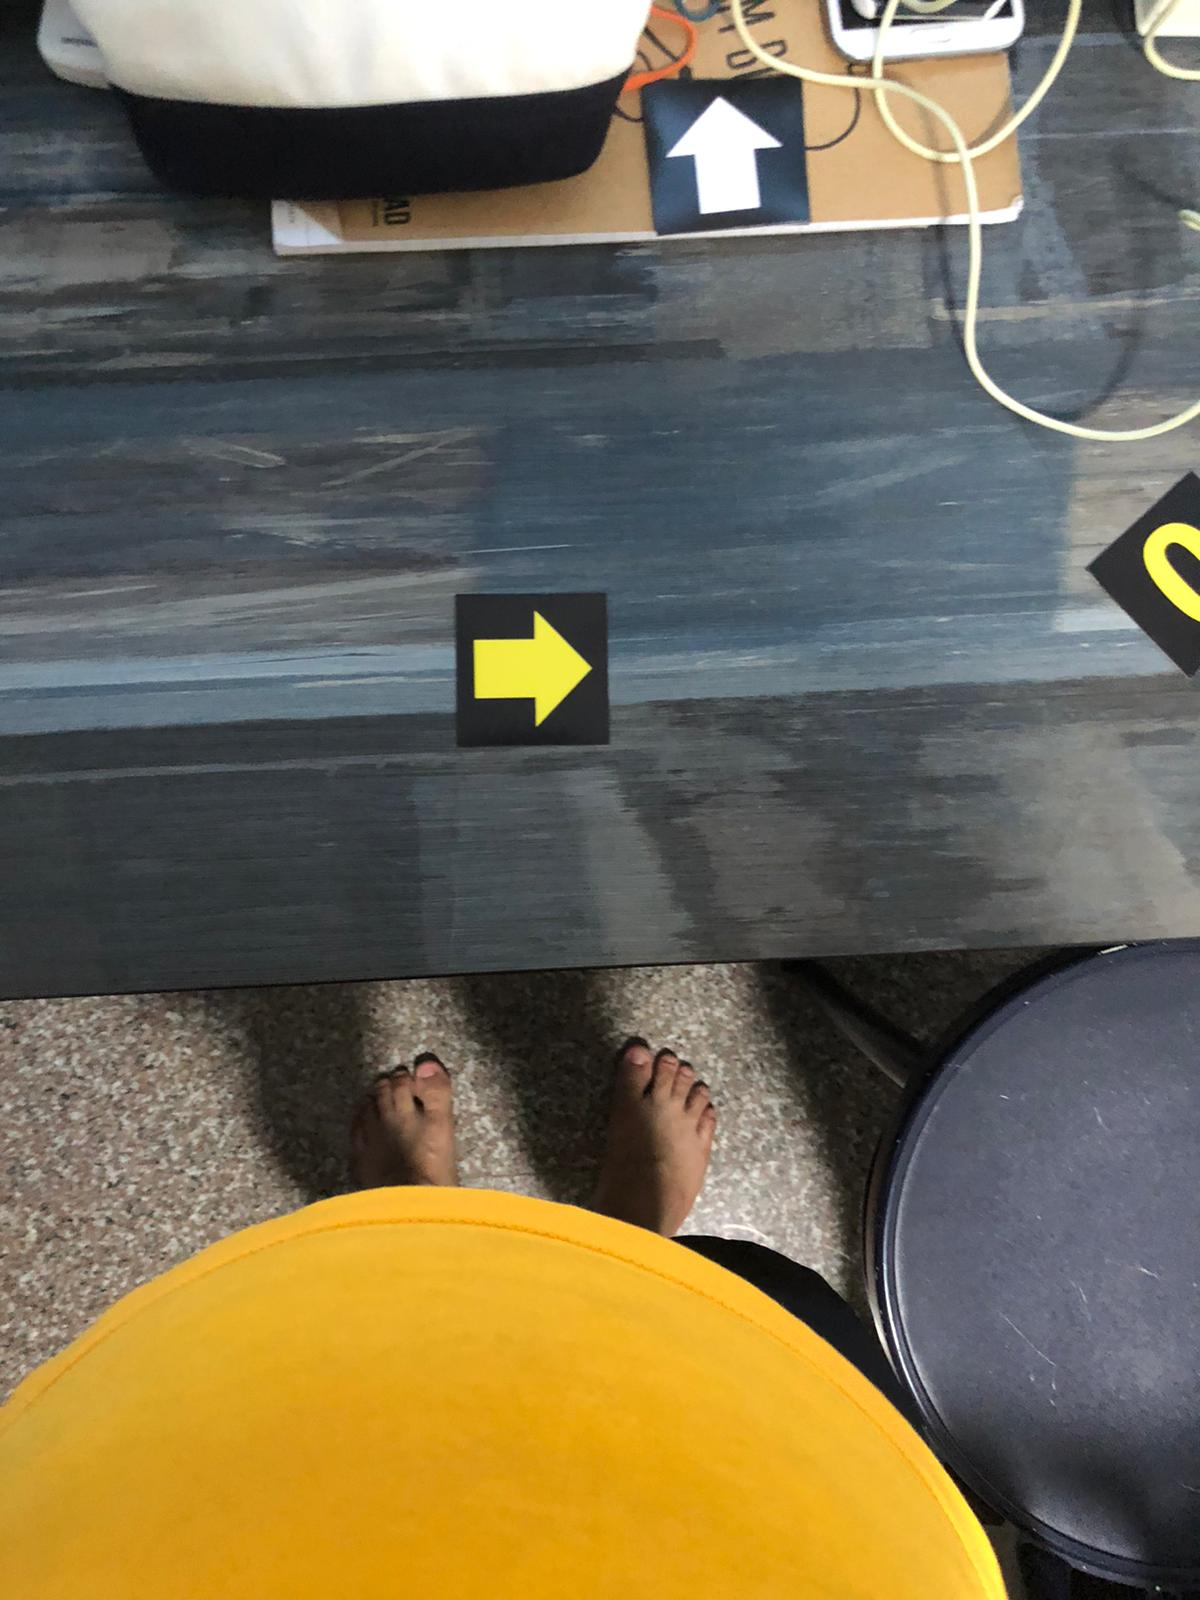Right Arrow: (456, 605, 608, 740)
